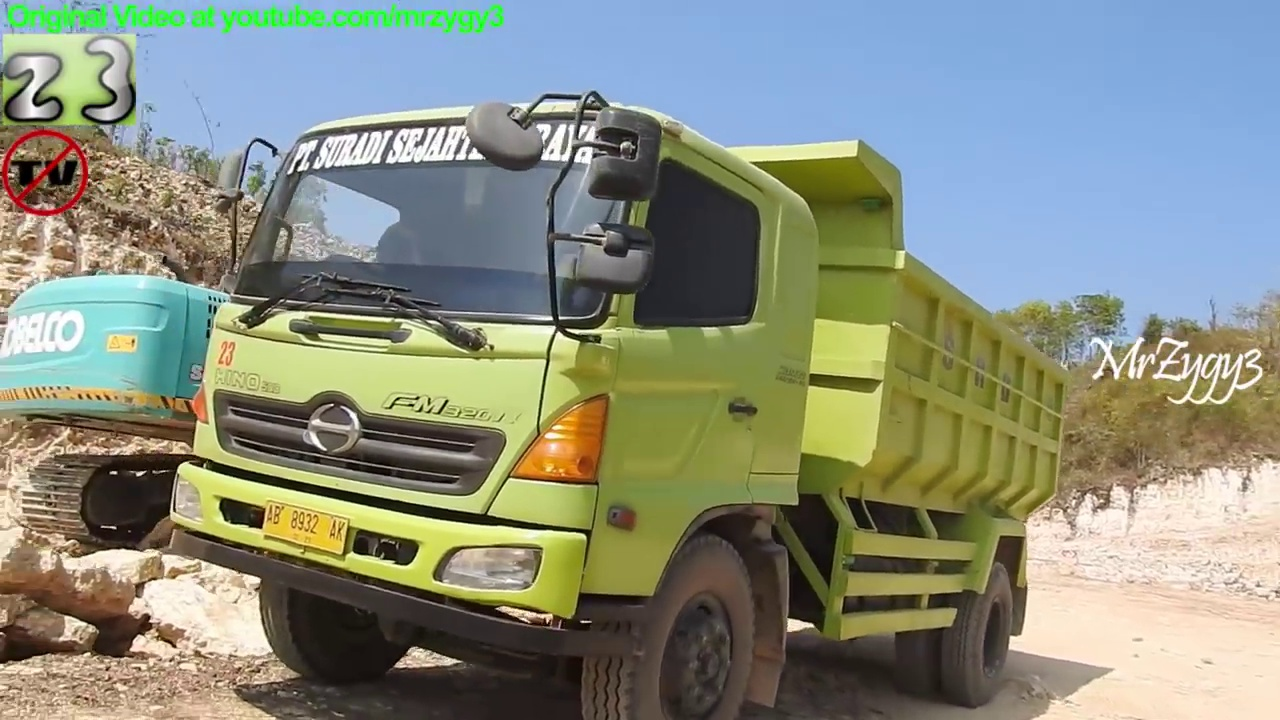excavator: (1, 201, 826, 584)
truck: (158, 85, 1078, 720)
